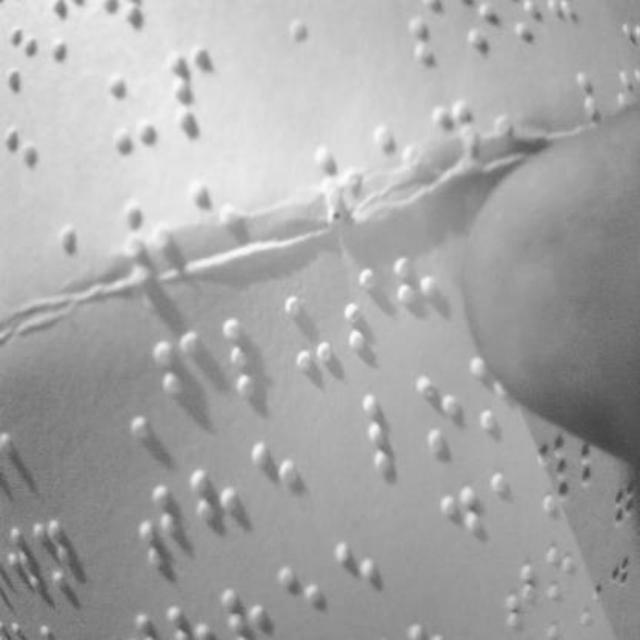braiile: (336, 260, 388, 366), (104, 66, 160, 164), (168, 46, 222, 144), (218, 314, 278, 402), (1, 122, 53, 222), (128, 480, 182, 576), (248, 435, 302, 531), (437, 484, 487, 586), (416, 371, 468, 467), (362, 391, 416, 483), (153, 323, 203, 421), (281, 297, 337, 383), (189, 460, 239, 556), (334, 533, 382, 623), (274, 554, 324, 640), (498, 556, 544, 640)
